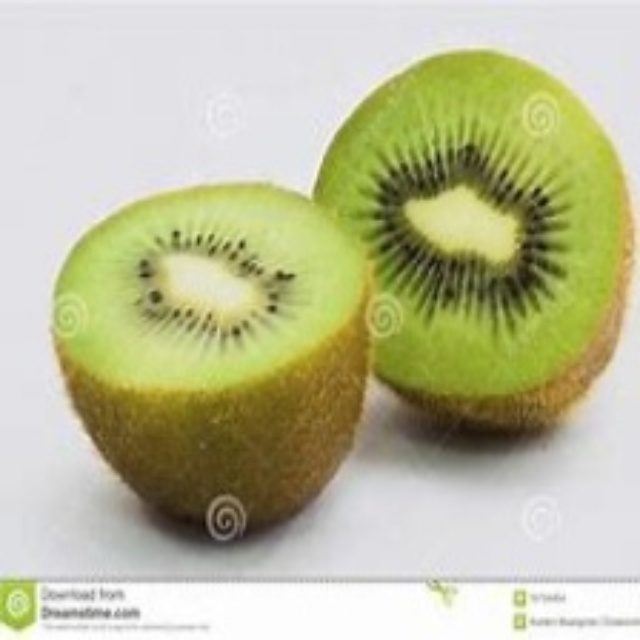kiwi: (319, 43, 639, 435), (46, 182, 373, 535)
